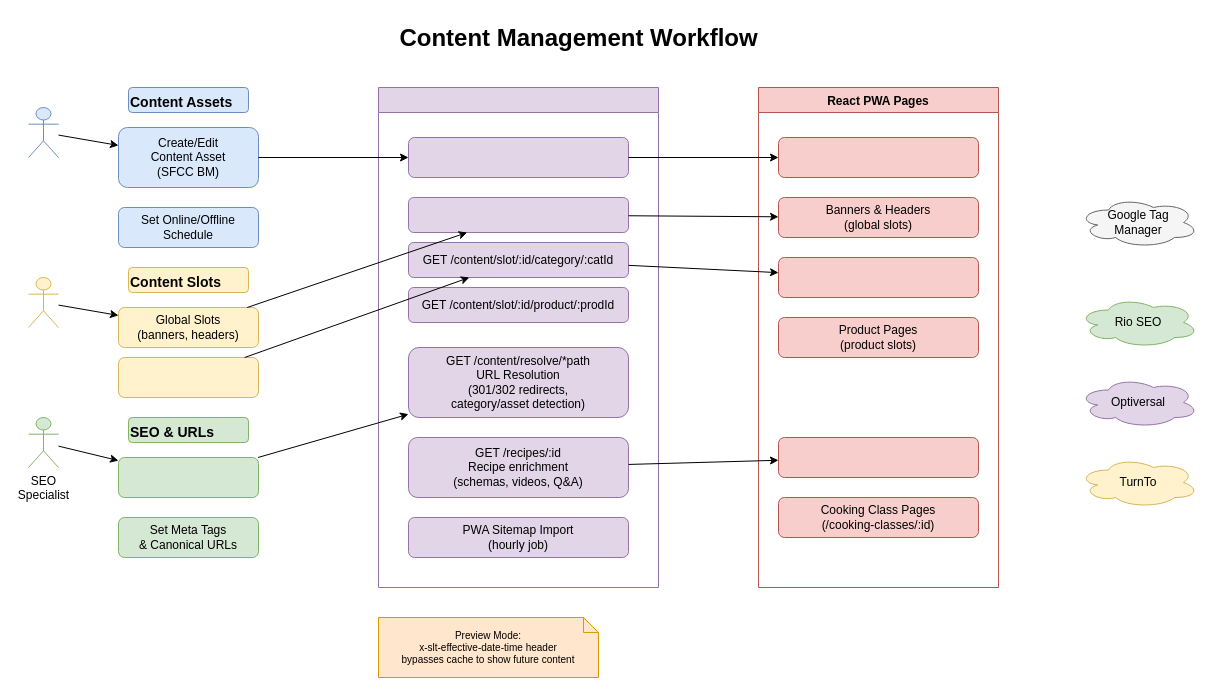
The diagram is 1216 pixels wide and 695 high, and some of its shapes have lost their labels. Here are the shapes that lost their labels. From the top down, the box of each, then its label:
(28, 106, 58, 158): Content Manager
(408, 136, 628, 178): GET /content/asset/:id Serve content assets
(778, 136, 978, 178): Landing Pages (campaign content)
(408, 196, 628, 232): GET /content/slot/:id/global
(778, 256, 978, 298): Category Pages (category slots)
(28, 276, 58, 328): Marketing Manager
(378, 86, 658, 588): BFF Content Module
(118, 356, 258, 398): Category Slots (promo content)
(118, 456, 258, 498): Configure URL Redirects (301/302)
(778, 436, 978, 478): Recipe Pages (/recipes/:id)
